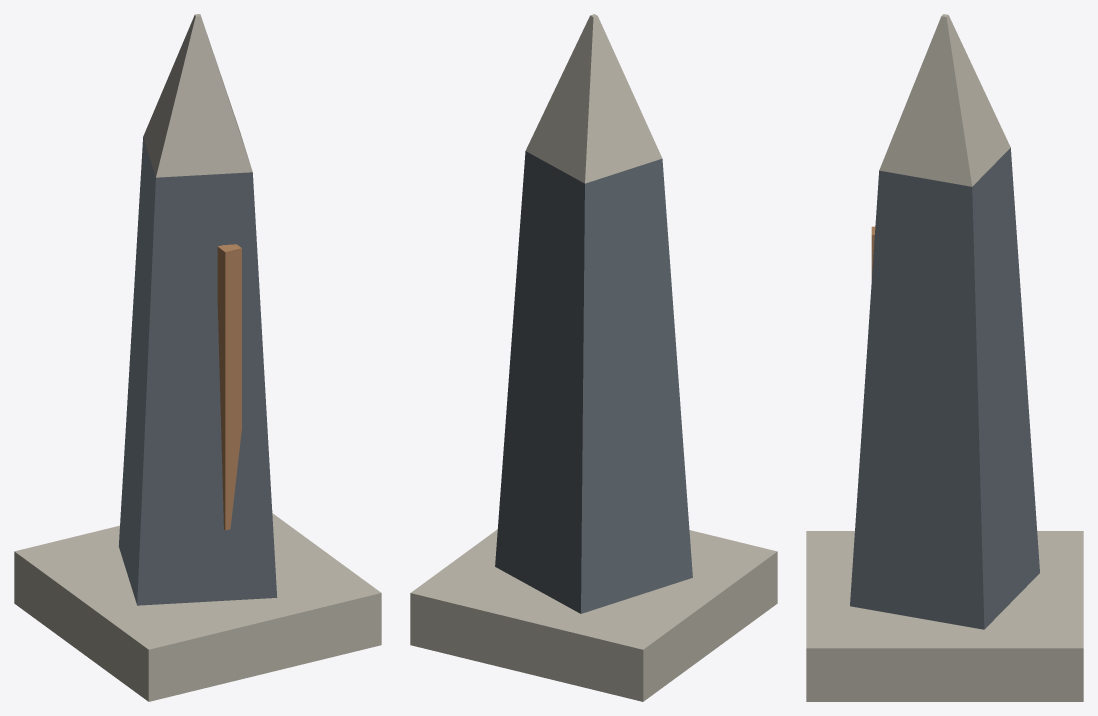
The model's file is SM_AEON_GraveObelisk.glb.
3 renders of one model, left to right at view 1: azimuth 30°, elevation 25°; view 2: azimuth 150°, elevation 25°; view 3: azimuth 270°, elevation 25°, orthographic. The views are drawn at different scales.
Visible parts, largest first — view 1: SM_AEON_GraveObelisk; view 2: SM_AEON_GraveObelisk; view 3: SM_AEON_GraveObelisk.
Boxes of the visible parts, box(x1,y1,x2,y2) form: SM_AEON_GraveObelisk: box(14, 14, 381, 701); SM_AEON_GraveObelisk: box(410, 14, 777, 701); SM_AEON_GraveObelisk: box(806, 14, 1083, 701).
Size of the model in its own units: 1.4 by 3.5 by 1.4.
